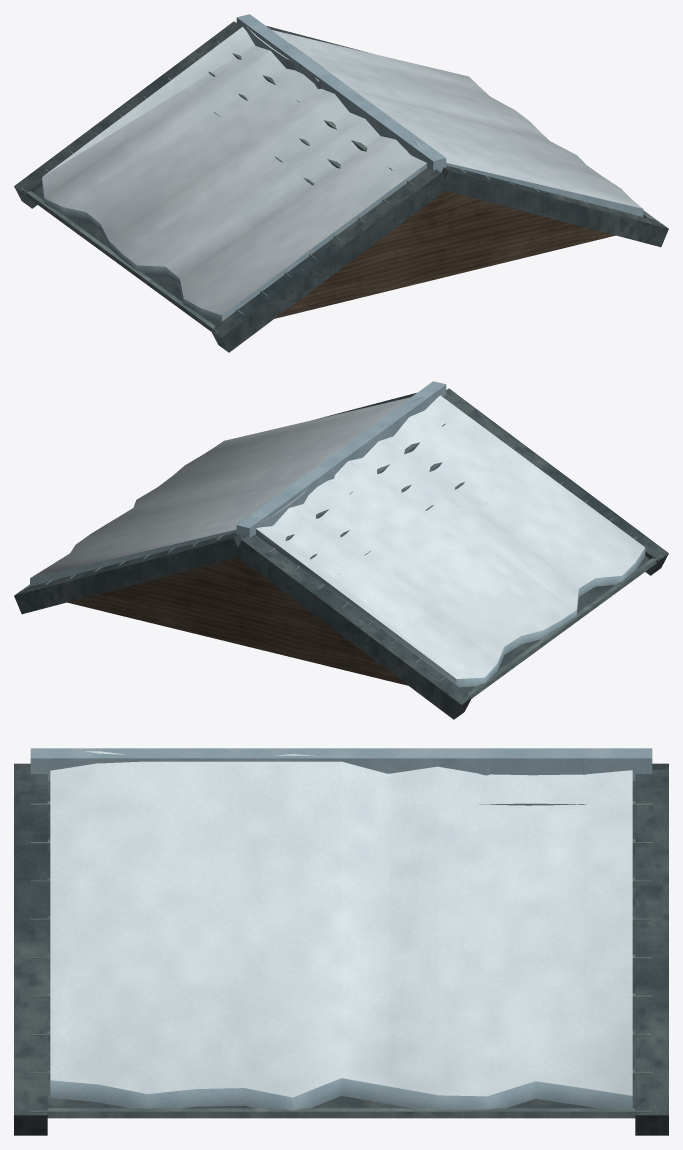
The model's file is 05_Cabin_Gable_Roof.obj.
The picture shows the model from 3 angles, top to bottom: view 1: azimuth 30°, elevation 25°; view 2: azimuth 150°, elevation 25°; view 3: azimuth 270°, elevation 25°; orthographic projection. The views are drawn at different scales.
Visible parts, largest first — view 1: 05_Cabin_Gable_Roof; view 2: 05_Cabin_Gable_Roof; view 3: 05_Cabin_Gable_Roof.
Boxes of the visible parts, x1=… form: 05_Cabin_Gable_Roof: x1=14, y1=14, x2=668, y2=352; 05_Cabin_Gable_Roof: x1=14, y1=381, x2=668, y2=719; 05_Cabin_Gable_Roof: x1=14, y1=748, x2=668, y2=1135.
Size of the model in its own units: 3.15 by 0.9245 by 2.53.
Materials: 5 (5 with a texture image).
